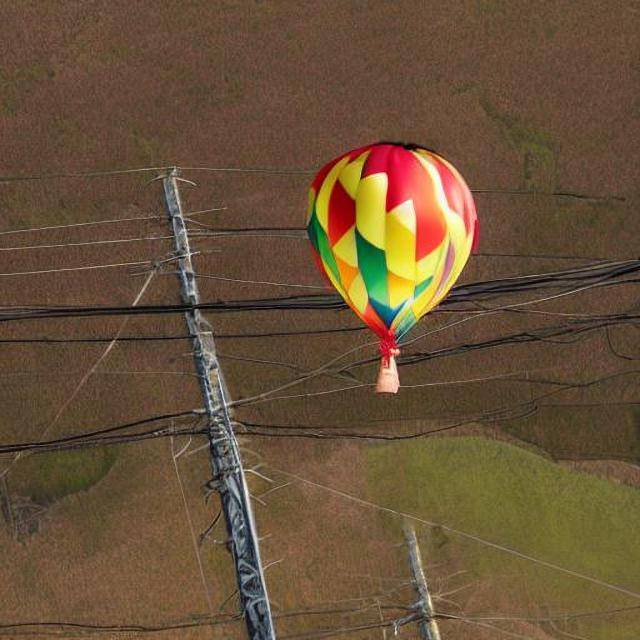balloon: (298, 143, 481, 387)
